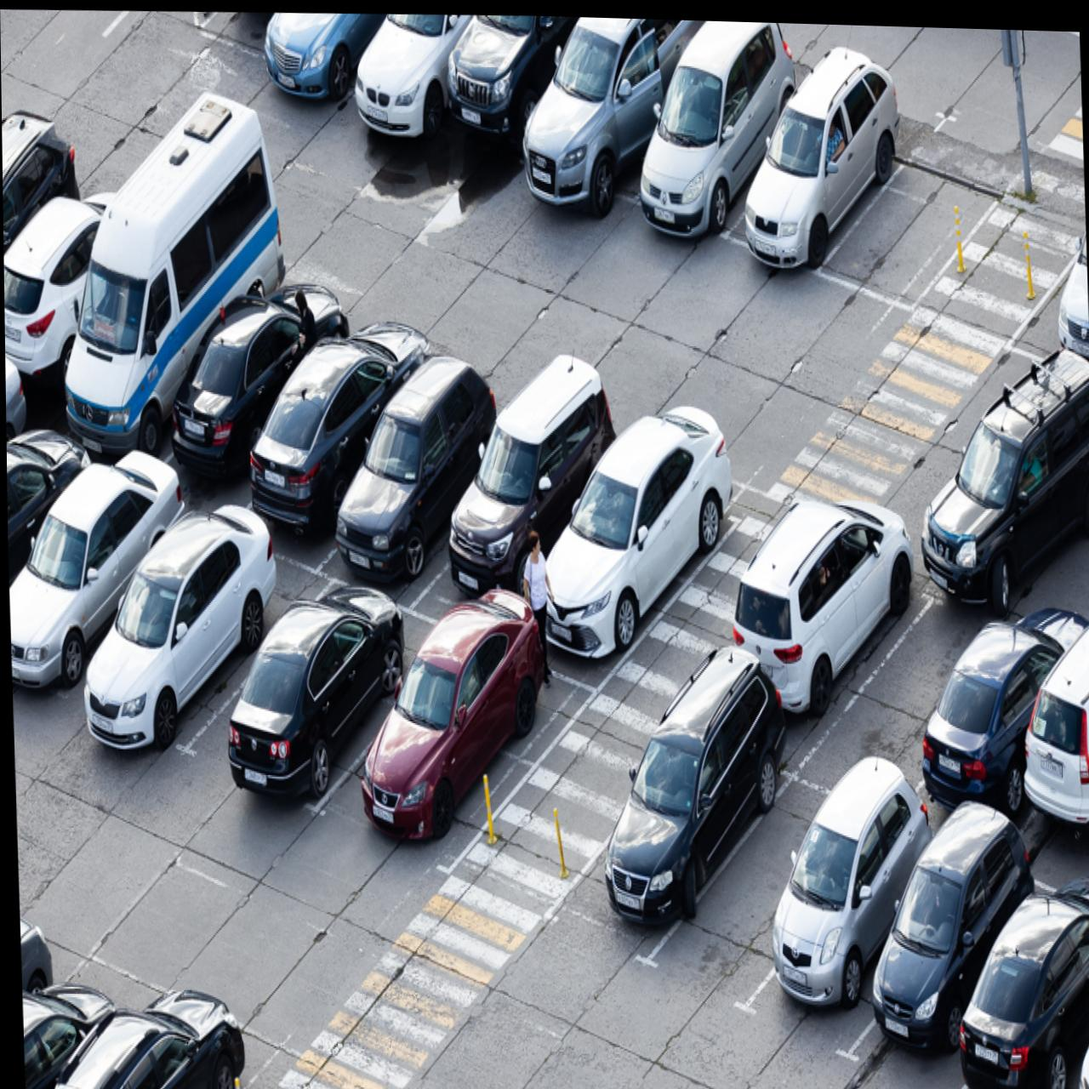cars: (335, 623, 552, 841), (208, 573, 411, 802), (70, 537, 281, 753), (566, 730, 775, 945), (67, 241, 245, 466), (746, 809, 915, 1019), (246, 353, 415, 548), (423, 426, 606, 606), (9, 479, 165, 689), (528, 479, 721, 647), (330, 388, 490, 589), (856, 860, 1021, 1051), (539, 21, 699, 215), (915, 604, 1061, 806), (731, 549, 918, 705), (734, 112, 894, 294), (161, 319, 324, 485), (632, 65, 797, 225), (3, 195, 131, 391), (956, 935, 1089, 1089), (442, 13, 574, 143), (355, 11, 491, 135), (1025, 646, 1089, 845)
empty: (654, 763, 825, 978), (816, 602, 994, 779), (831, 122, 967, 319)
